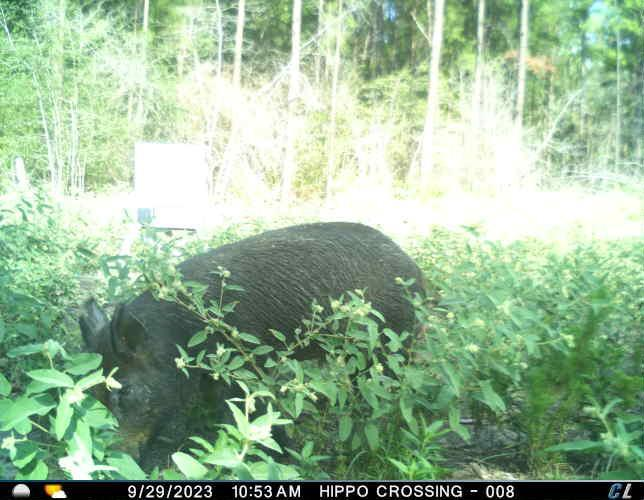Hog: (75, 215, 436, 472)
